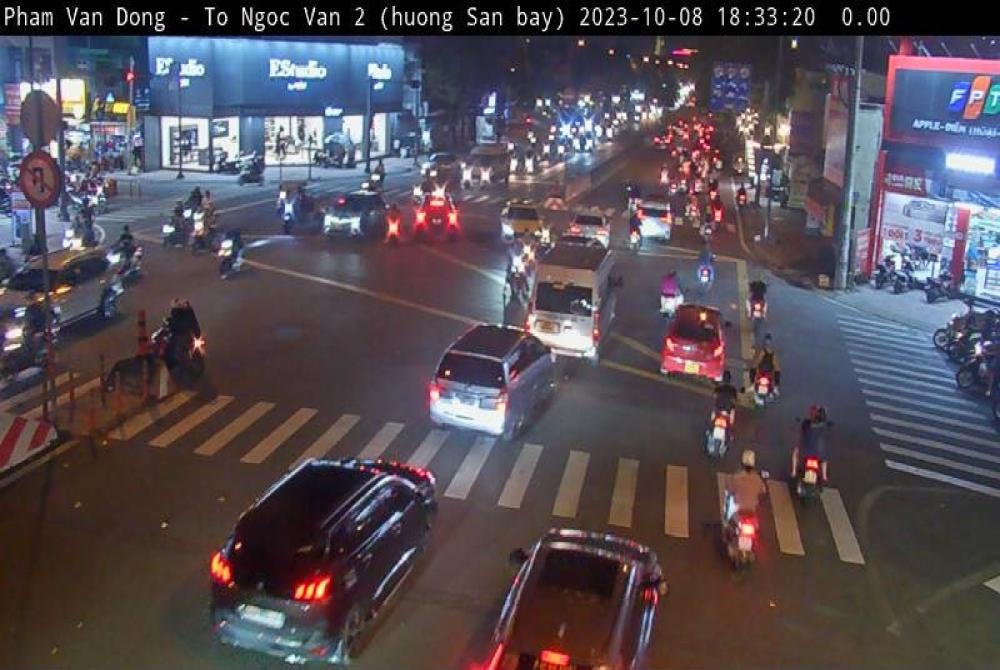car: (209, 456, 440, 667), (479, 527, 667, 670), (429, 327, 559, 438), (0, 242, 123, 339), (522, 242, 614, 364), (660, 301, 730, 389), (323, 188, 387, 242), (499, 203, 547, 246)
